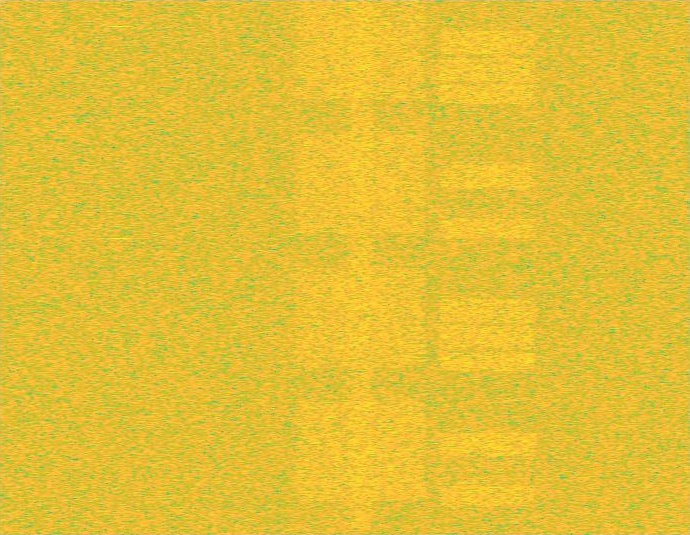5G: (292, 0, 430, 534)
DSSS: (345, 0, 376, 534)
LTE: (436, 0, 539, 534)
Radar: (114, 0, 127, 534)
